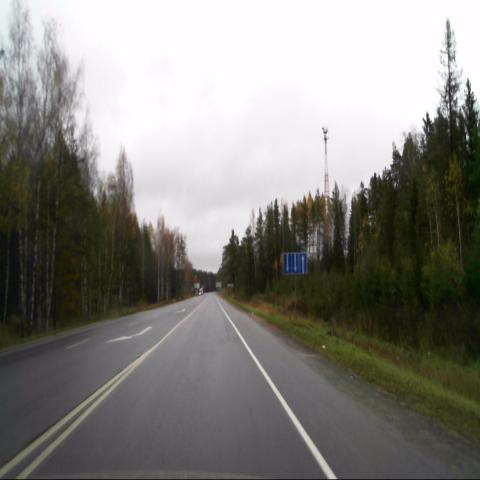5_15_7: (282, 252, 308, 275)
